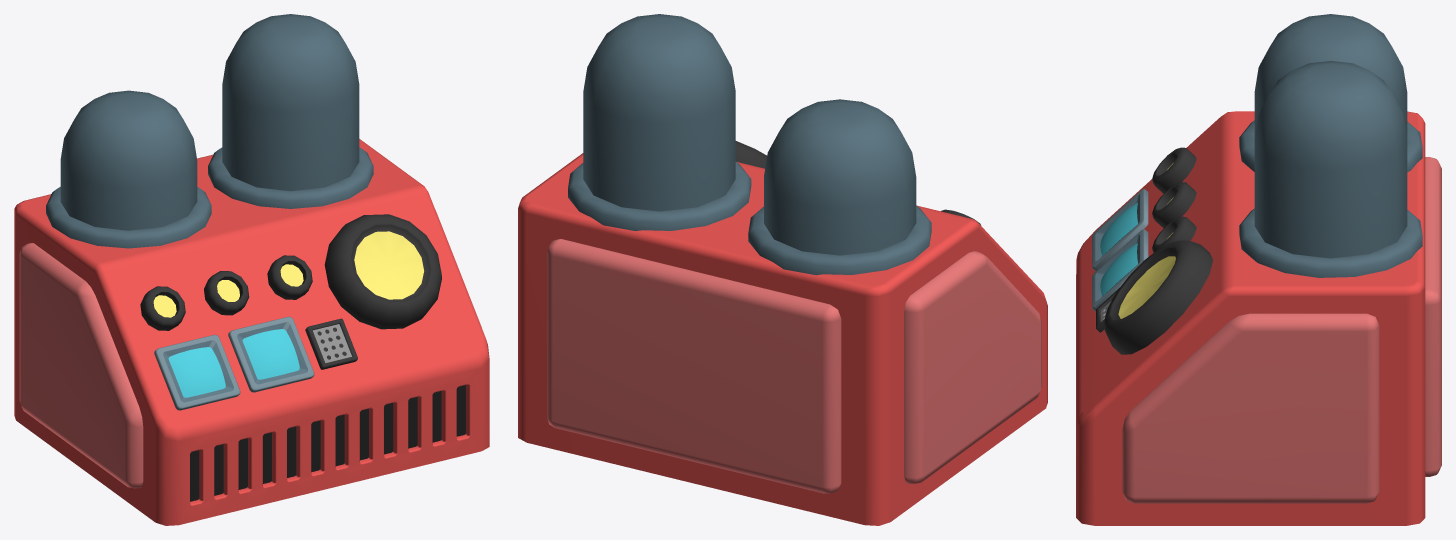
The model's file is terminal_001.fbx.
The picture shows the model from 3 angles, left to right: view 1: azimuth 30°, elevation 25°; view 2: azimuth 150°, elevation 25°; view 3: azimuth 270°, elevation 25°; orthographic projection. The views are drawn at different scales.
Parts seen in each view (by area): view 1: terminal_001; view 2: terminal_001; view 3: terminal_001.
Boxes of the visible parts, left/top/right/bottom form: terminal_001: left=14, top=14, right=489, bottom=525; terminal_001: left=518, top=14, right=1047, bottom=525; terminal_001: left=1076, top=14, right=1441, bottom=525.
Bounding box in the file's own units: 559 × 443 × 536.
